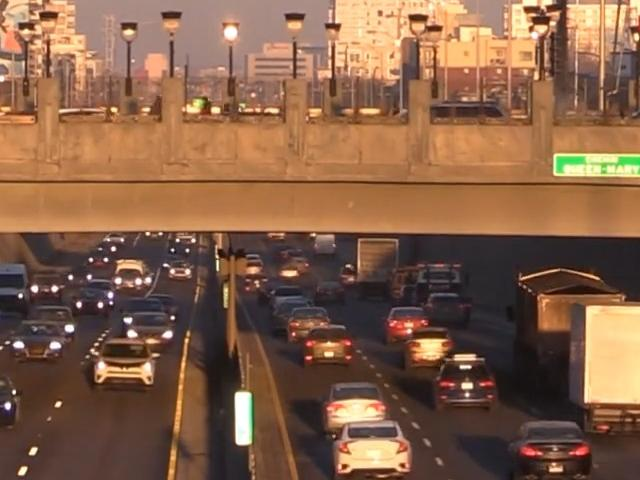car: (572, 298, 640, 433), (506, 417, 594, 480), (330, 424, 414, 479), (90, 341, 157, 390), (320, 382, 393, 424), (439, 362, 498, 412), (401, 327, 456, 376), (120, 311, 178, 352), (10, 321, 65, 364), (84, 321, 139, 361), (300, 331, 353, 369), (282, 309, 334, 347), (25, 302, 78, 339), (424, 292, 473, 330), (385, 307, 432, 346), (27, 266, 72, 304), (266, 287, 312, 323), (387, 263, 427, 301), (421, 264, 464, 299), (132, 293, 179, 325), (71, 284, 115, 315), (114, 267, 155, 296), (0, 376, 19, 430), (314, 279, 347, 304), (241, 272, 271, 299), (86, 255, 118, 278), (65, 265, 97, 287), (240, 251, 266, 277), (271, 246, 300, 266), (278, 261, 306, 281), (280, 235, 308, 255), (167, 237, 193, 256), (167, 262, 193, 280), (338, 262, 358, 285), (100, 234, 124, 250), (143, 230, 166, 242), (266, 231, 287, 242)
truck: (511, 263, 622, 391), (347, 240, 400, 301)
van: (0, 262, 30, 311), (313, 233, 337, 255)
